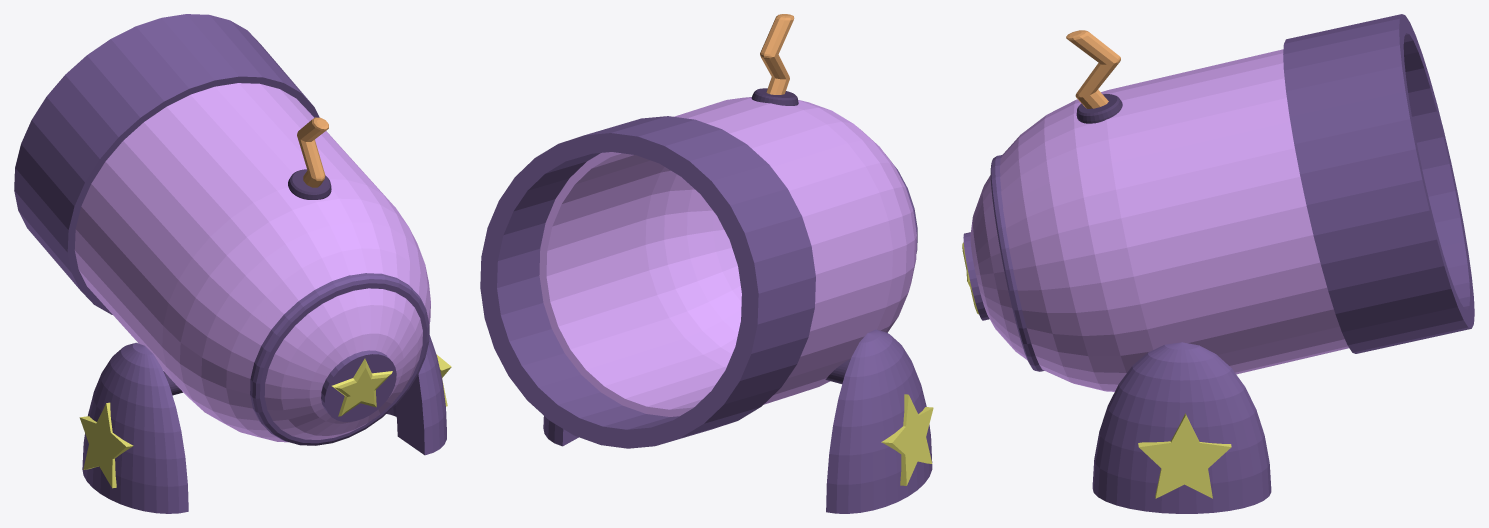
File: Canon.fbx
3 views of the same model, side by side, from view 1: azimuth 30°, elevation 25°; view 2: azimuth 150°, elevation 25°; view 3: azimuth 270°, elevation 25° (orthographic). The views are drawn at different scales.
Visible parts, largest first — view 1: Circle, Circle.001; view 2: Circle; view 3: Circle, Circle.001.
Boxes of the visible parts, x1,y1,x2,y2 form: Circle: [14, 14, 451, 513]; Circle.001: [250, 273, 429, 445]; Circle: [480, 14, 933, 513]; Circle: [1000, 14, 1474, 513]; Circle.001: [962, 155, 1044, 371].
Bounding box in the file's own units: 520 × 539 × 629.
